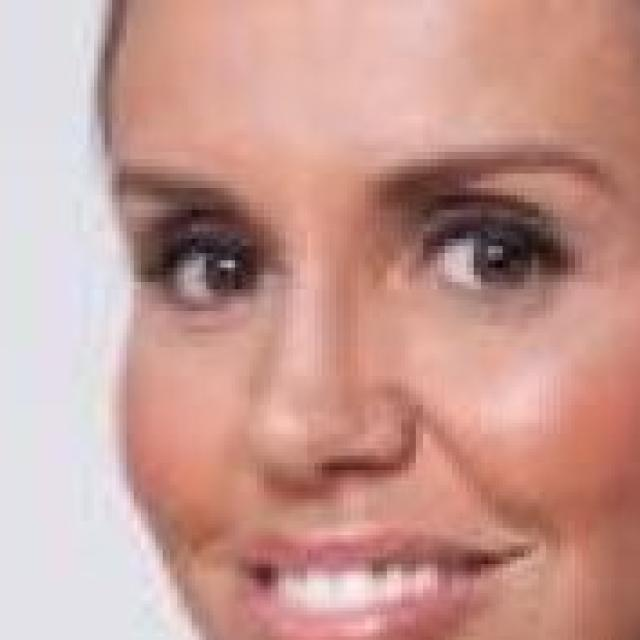Normal: (110, 0, 636, 636)
